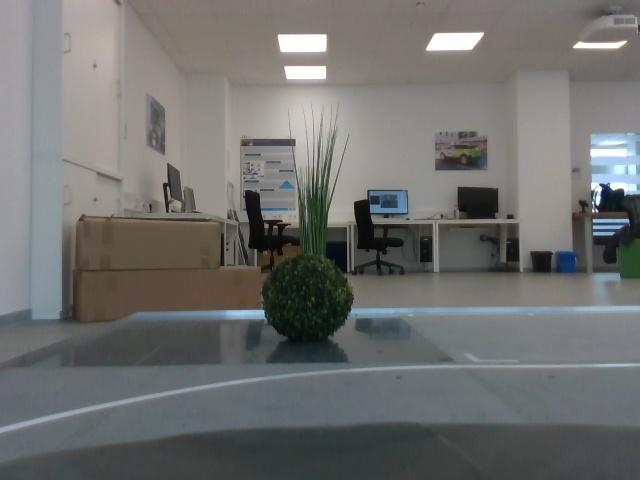potted plant: (283, 101, 348, 257), (263, 259, 356, 348)
